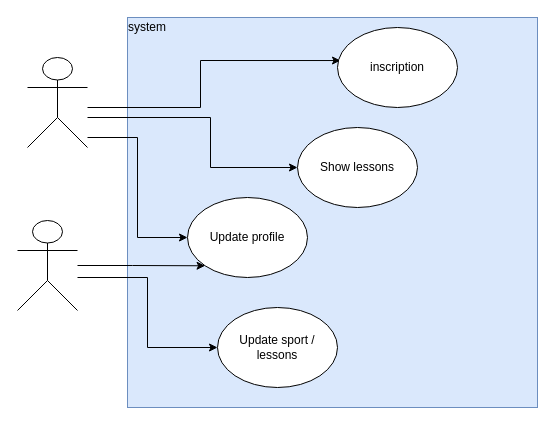
Some shapes in this 555 by 425 pixel diagram are drawn without their labels. The centre of each missing label's shape, as x and y in pixels:
Admin: [47,265]
Athlete: [57,102]
